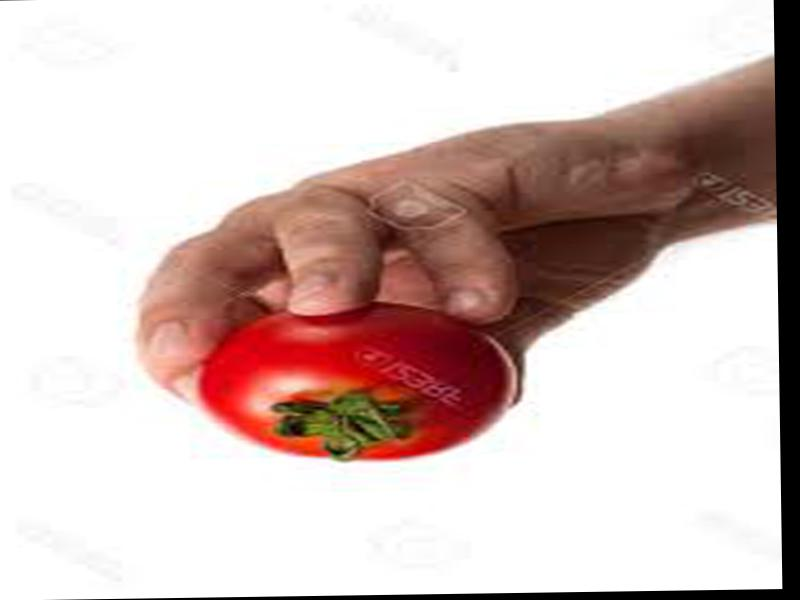Tomato: (197, 303, 514, 464)
